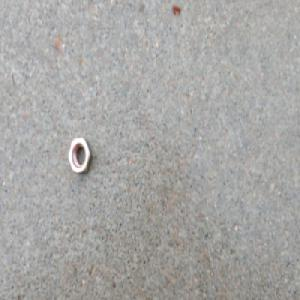Nut: (67, 135, 92, 174)
